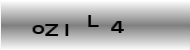4: (110, 20, 125, 34)
L: (87, 14, 100, 27)
Z: (44, 23, 59, 37)
l: (63, 23, 68, 36)
o: (31, 24, 44, 34)
